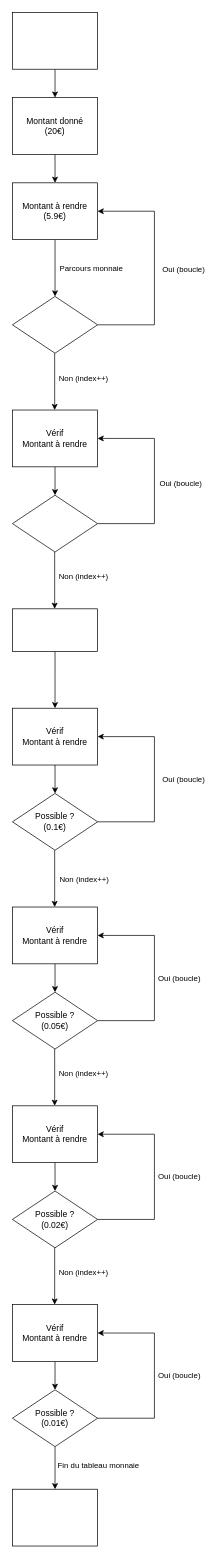
Image size: 217x1558. Some labels were removed from this diagram. The shapes that lost their labels are listed below. From the top down, each one's centre as x and y in pixels, then its label:
At pixel 55 40: "Montant dû (14.1€)".
At pixel 55 324: "Possible ? (500€)".
At pixel 55 523: "Possible ? (200€)".
At pixel 55 629: "(parcours tableau...)".
At pixel 55 1517: "Afficher le nombre de chaque monnaie rendue".
